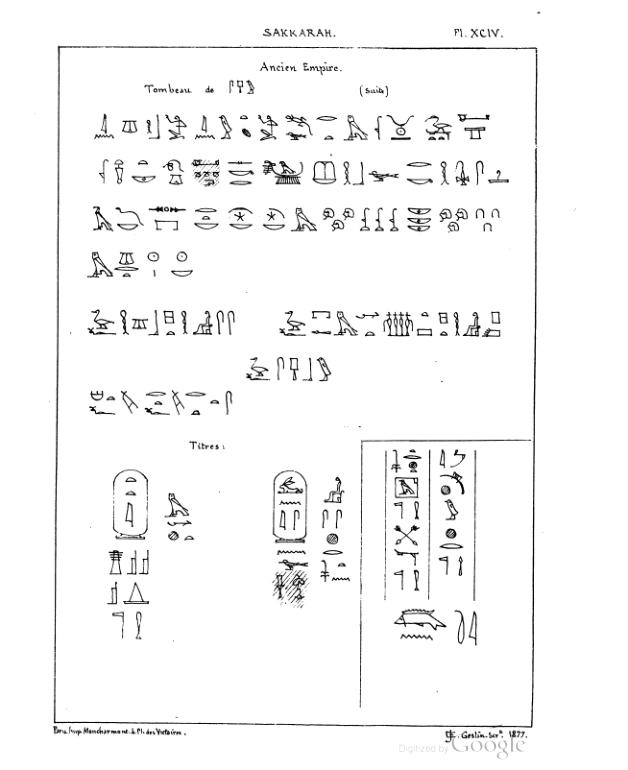circle: (104, 464, 153, 542), (268, 467, 310, 546)
